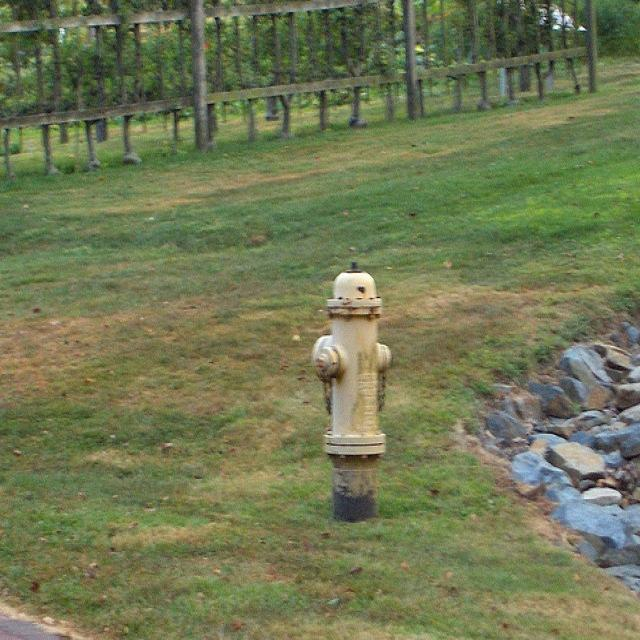fire_hydrant: (314, 255, 392, 526)
